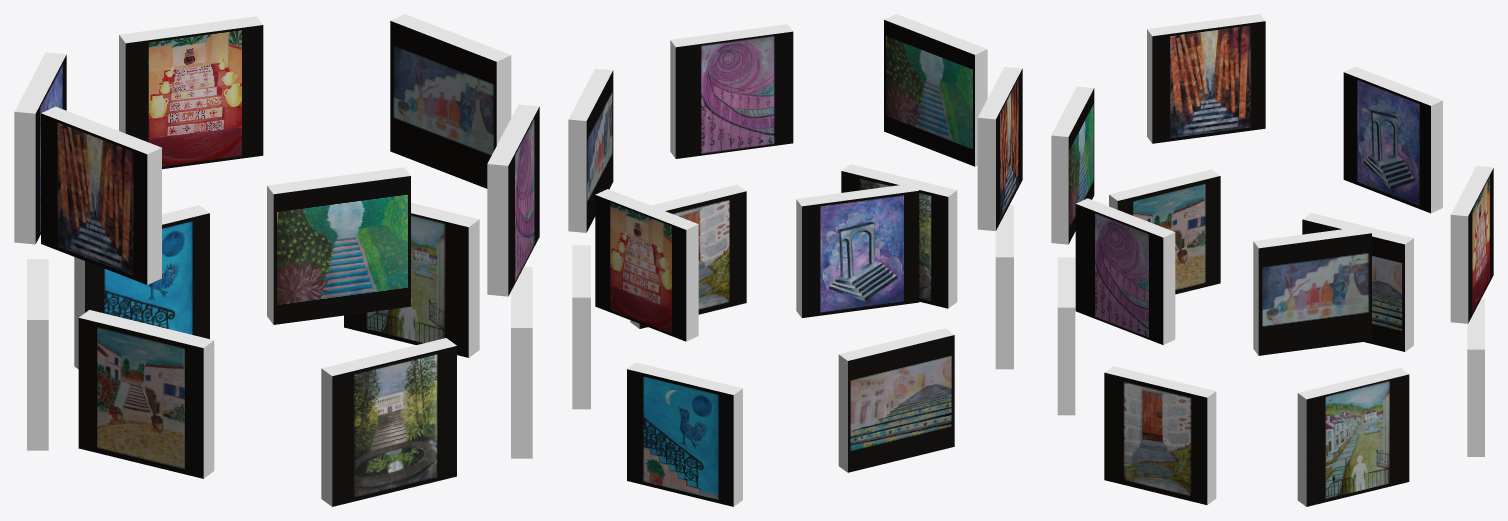
File: 12_square.obj
3 views of the same model, side by side, from view 1: azimuth 30°, elevation 25°; view 2: azimuth 150°, elevation 25°; view 3: azimuth 270°, elevation 25° (orthographic). The views are drawn at different scales.
Parts seen in each view (by area): view 1: Cube_10, Cube_5, Cube_4, Cube_7, Cube_11, Cube_8, Cube_2, Cube_1, Cube_9, Cube_12, Cube_6, Cube_3; view 2: Cube_12, Cube_9, Cube_6, Cube_1, Cube_7, Cube_10, Cube_3, Cube_11, Cube_4, Cube_8, Cube_2, Cube_5; view 3: Cube_8, Cube_11, Cube_2, Cube_3, Cube_9, Cube_12, Cube_5, Cube_6, Cube_7, Cube_10, Cube_4, Cube_1.
Boxes of the visible parts, <box> form: Cube_10: <box>267,167,410,324</box>; Cube_5: <box>78,310,214,478</box>; Cube_4: <box>321,338,456,506</box>; Cube_7: <box>119,16,263,169</box>; Cube_11: <box>41,106,161,284</box>; Cube_8: <box>390,14,511,188</box>; Cube_2: <box>344,202,479,357</box>; Cube_1: <box>74,205,209,369</box>; Cube_9: <box>487,104,539,296</box>; Cube_12: <box>14,52,66,244</box>; Cube_6: <box>27,259,48,450</box>; Cube_3: <box>511,267,532,458</box>; Cube_12: <box>796,183,919,317</box>; Cube_9: <box>670,24,793,158</box>; Cube_6: <box>838,328,954,472</box>; Cube_1: <box>627,362,742,506</box>; Cube_7: <box>595,189,698,341</box>; Cube_10: <box>884,14,987,166</box>; Cube_3: <box>630,184,746,328</box>; Cube_11: <box>977,67,1022,231</box>; Cube_4: <box>841,164,957,308</box>; Cube_8: <box>568,68,613,232</box>; Cube_2: <box>572,245,590,409</box>; Cube_5: <box>995,205,1013,369</box>; Cube_8: <box>1253,226,1371,355</box>; Cube_11: <box>1147,14,1265,143</box>; Cube_2: <box>1297,368,1409,506</box>; Cube_3: <box>1104,366,1216,504</box>; Cube_9: <box>1075,198,1175,344</box>; Cube_12: <box>1343,66,1442,213</box>; Cube_5: <box>1109,169,1220,294</box>; Cube_6: <box>1302,213,1413,351</box>; Cube_7: <box>1450,165,1493,323</box>; Cube_10: <box>1051,86,1094,244</box>; Cube_4: <box>1057,257,1075,415</box>; Cube_1: <box>1467,299,1484,456</box>.
Size of the model in its own units: 1127 by 906 by 1119.
Materials: 13 (12 with a texture image).
